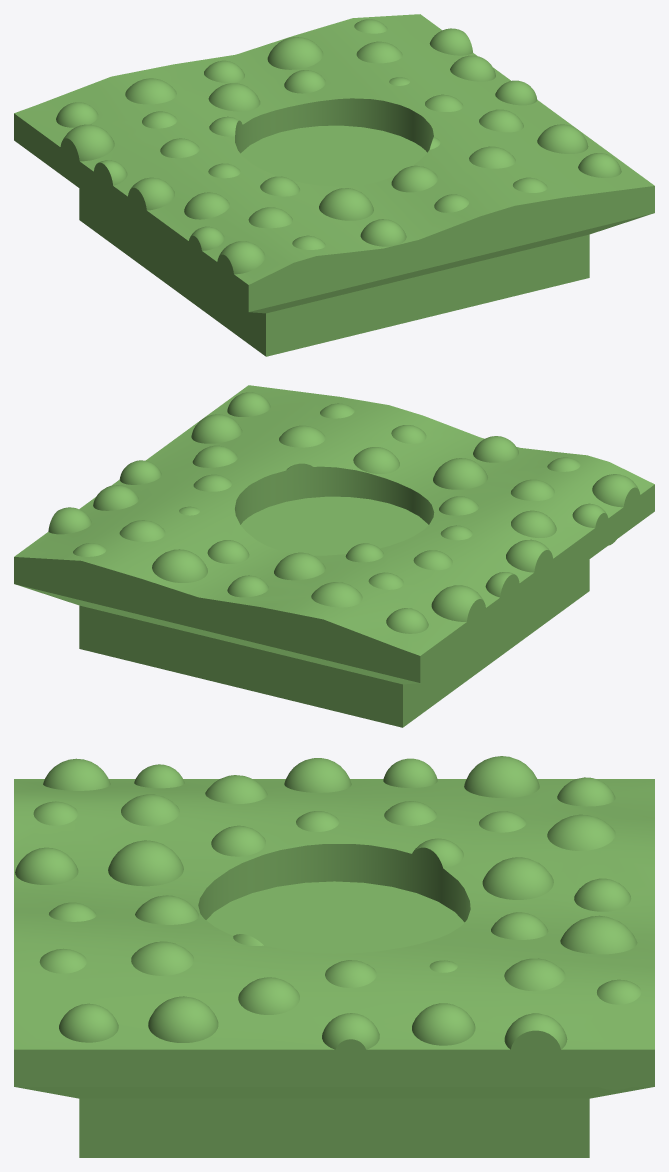
Rendered from grass.obj.
3 renders of one model, top to bottom at view 1: azimuth 30°, elevation 25°; view 2: azimuth 150°, elevation 25°; view 3: azimuth 270°, elevation 25°, orthographic. The views are drawn at different scales.
Parts seen in each view (by area): view 1: mesh1, mesh38, mesh50, mesh40, mesh41, mesh51, mesh39, mesh53, mesh31, mesh18, mesh2, mesh12 (+23 smaller); view 2: mesh1, mesh37, mesh48, mesh40, mesh41, mesh51, mesh39, mesh47, mesh31, mesh18, mesh2, mesh12 (+24 smaller); view 3: mesh1, mesh49, mesh44, mesh40, mesh39, mesh46, mesh18, mesh12, mesh2, mesh36, mesh31, mesh0 (+28 smaller).
Part boxes in pixels (left/top/right/bottom): mesh1: left=14, top=14, right=654, bottom=284; mesh38: left=248, top=186, right=654, bottom=311; mesh50: left=266, top=234, right=589, bottom=356; mesh40: left=240, top=125, right=426, bottom=186; mesh41: left=14, top=113, right=248, bottom=311; mesh51: left=79, top=188, right=265, bottom=356; mesh39: left=235, top=98, right=433, bottom=153; mesh53: left=249, top=213, right=653, bottom=313; mesh31: left=267, top=37, right=323, bottom=69; mesh18: left=319, top=188, right=373, bottom=220; mesh2: left=63, top=124, right=114, bottom=161; mesh12: left=537, top=124, right=588, bottom=153; mesh1: left=14, top=385, right=654, bottom=655; mesh37: left=14, top=557, right=420, bottom=682; mesh48: left=79, top=605, right=402, bottom=727; mesh40: left=241, top=496, right=428, bottom=555; mesh41: left=420, top=484, right=654, bottom=682; mesh51: left=403, top=559, right=589, bottom=727; mesh39: left=235, top=463, right=434, bottom=524; mesh47: left=15, top=584, right=419, bottom=684; mesh31: left=152, top=549, right=207, bottom=582; mesh18: left=433, top=458, right=487, bottom=489; mesh2: left=431, top=585, right=483, bottom=621; mesh12: left=191, top=414, right=242, bottom=443; mesh1: left=14, top=779, right=654, bottom=1049; mesh49: left=79, top=1098, right=589, bottom=1157; mesh44: left=14, top=1030, right=654, bottom=1089; mesh40: left=206, top=881, right=464, bottom=953; mesh39: left=198, top=844, right=470, bottom=922; mesh46: left=16, top=1087, right=652, bottom=1098; mesh18: left=108, top=840, right=183, bottom=886; mesh12: left=148, top=996, right=218, bottom=1042; mesh2: left=464, top=756, right=539, bottom=797; mesh36: left=482, top=857, right=553, bottom=899; mesh31: left=560, top=915, right=637, bottom=954; mesh0: left=412, top=1003, right=475, bottom=1045.
Size of the model in its own units: 0.0373 by 0.0109 by 0.0373.
